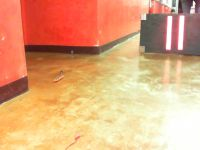switch: (165, 16, 172, 51), (177, 15, 184, 50)
